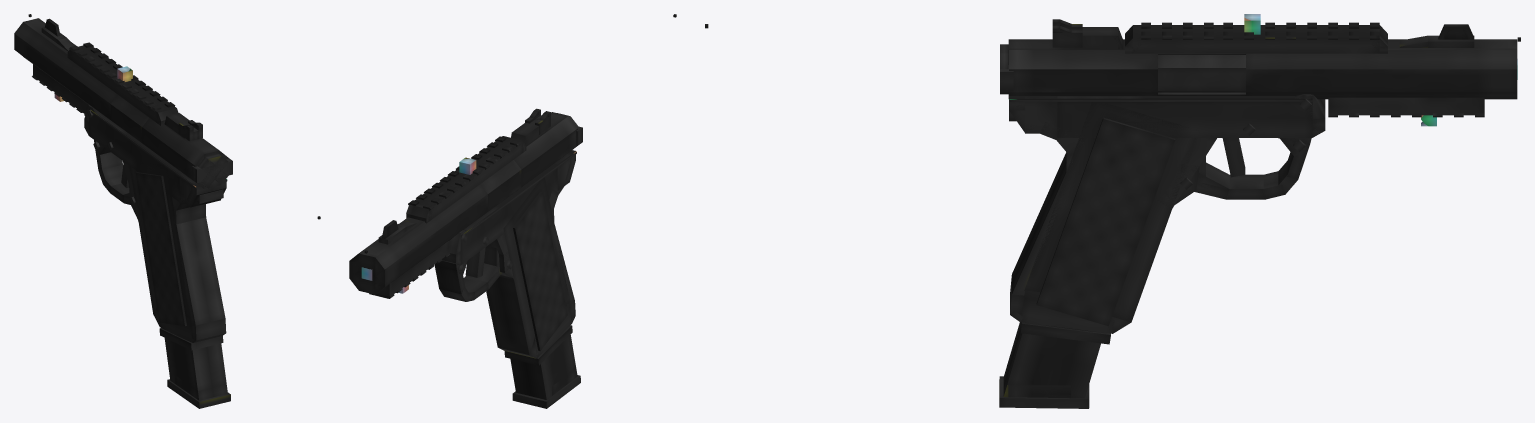
File: a1_rugermk22.geo.fbx
3 renders of one model, left to right at view 1: azimuth 30°, elevation 25°; view 2: azimuth 150°, elevation 25°; view 3: azimuth 270°, elevation 25°, orthographic. The views are drawn at different scales.
Visible parts, largest first — view 1: gun, bone3, magazine4, rails2, gun5, gun2, bone5, rails, magazine1; view 2: gun, bone3, magazine4, rails2, gun5, gun2, rails, magazine1; view 3: gun, bone3, magazine4, rails2, gun5, bolt, rails, gun2, magazine1.
Part boxes in pixels (x1,y1,x2,y2): gun: (84, 105, 227, 342); bone3: (14, 18, 228, 188); magazine4: (164, 334, 230, 408); rails2: (67, 45, 178, 125); gun5: (32, 18, 202, 141); gun2: (69, 42, 175, 111); bone5: (192, 153, 232, 188); rails: (33, 64, 89, 113); magazine1: (159, 328, 223, 350); gun: (434, 150, 576, 358); bone3: (349, 112, 577, 294); magazine4: (510, 335, 580, 408); rails2: (406, 136, 526, 223); gun5: (369, 108, 550, 298); gun2: (408, 136, 521, 210); rails: (377, 241, 448, 296); magazine1: (504, 325, 572, 365); gun: (1009, 94, 1325, 333); bone3: (1008, 39, 1517, 99); magazine4: (999, 322, 1103, 408); rails2: (1125, 25, 1387, 53); gun5: (1052, 19, 1484, 117); bolt: (1158, 55, 1245, 92); rails: (1328, 97, 1484, 115); gun2: (1141, 22, 1379, 39); magazine1: (1020, 322, 1110, 344).
Size of the model in its own units: 22.64 by 163 by 316.
1 material, 1 textured.
